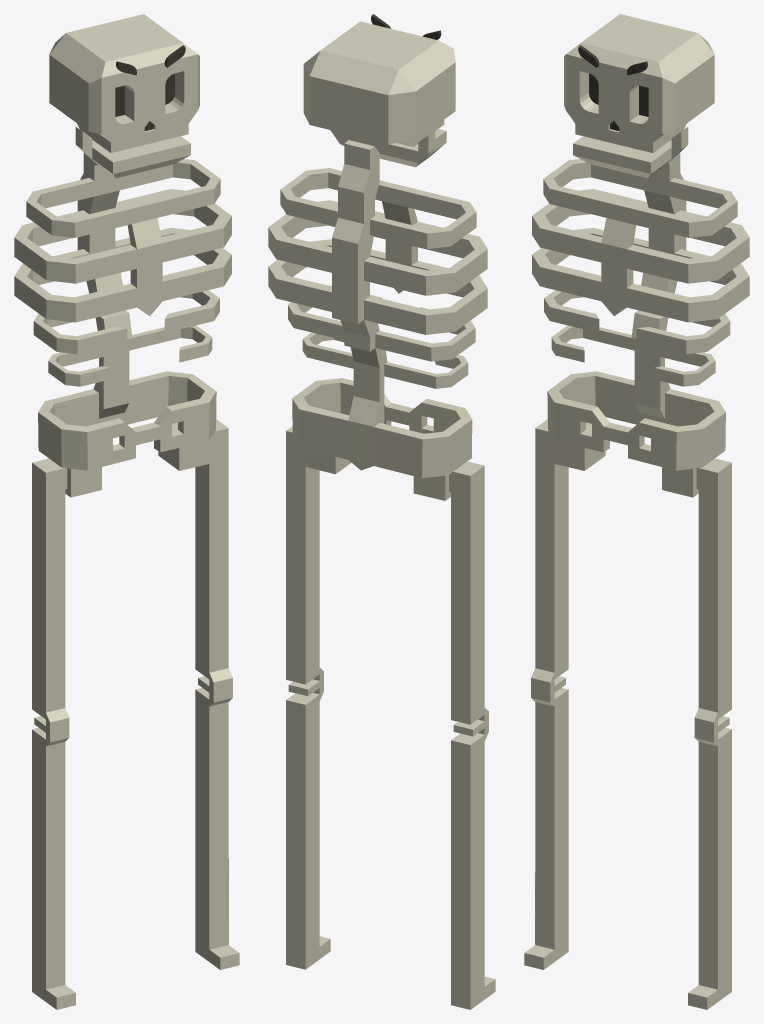
Rendered from SkelebonesArcher.fbx.
3 renders of one model, left to right at view 1: azimuth 30°, elevation 25°; view 2: azimuth 150°, elevation 25°; view 3: azimuth 330°, elevation 25°, orthographic.
Parts seen in each view (by area): view 1: SkelebonesArcher; view 2: SkelebonesArcher; view 3: SkelebonesArcher.
Boxes of the visible parts, left/top/right/bottom form: SkelebonesArcher: left=14, top=14, right=239, bottom=1009; SkelebonesArcher: left=268, top=14, right=495, bottom=1009; SkelebonesArcher: left=524, top=14, right=749, bottom=1009.
Bounding box in the file's own units: 41.47 × 200 × 23.89.
